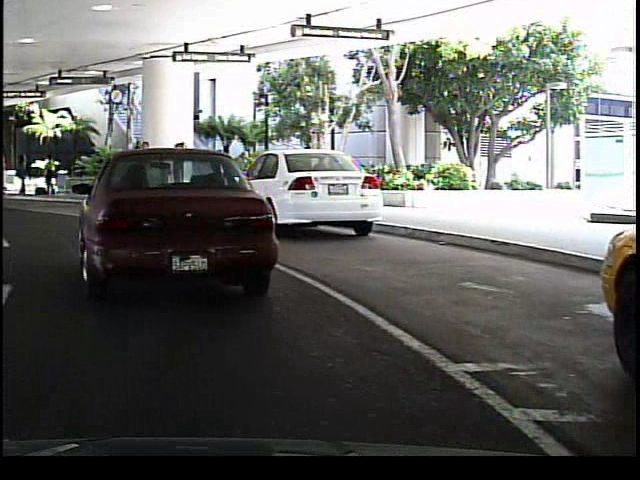person: (131, 135, 155, 204), (167, 137, 191, 200), (206, 145, 232, 195), (40, 154, 65, 197), (234, 146, 256, 187), (14, 148, 32, 198)
